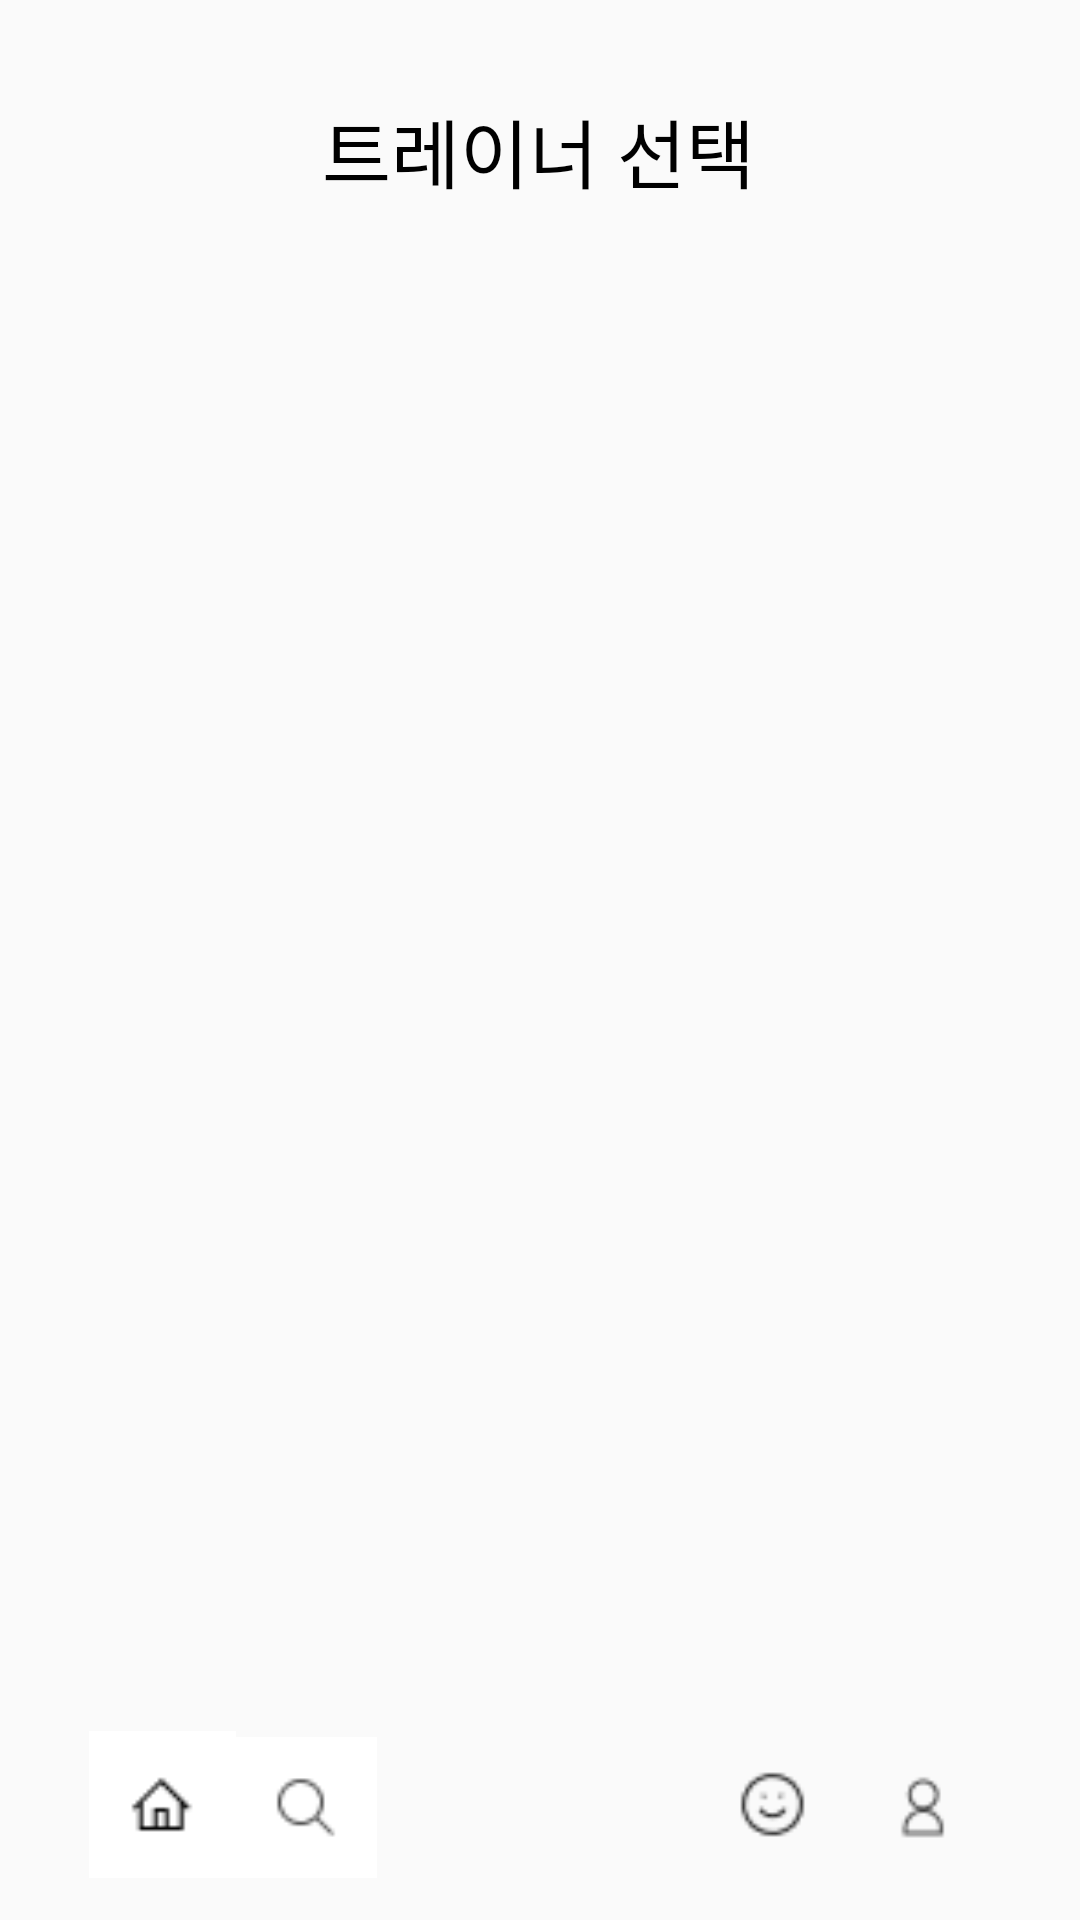

Point at icon controls on the screen. Image size 1080w x 1920h, points as (x,y).
home: (161,1805)
profile: (922,1807)
search: (306,1807)
